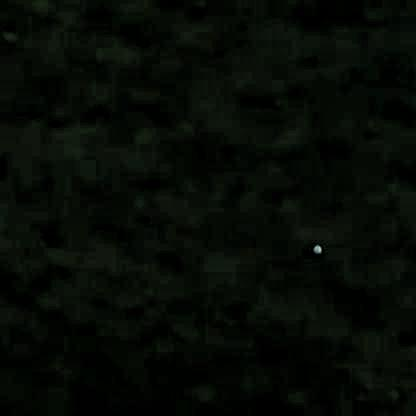golfball: (307, 241, 320, 254)
